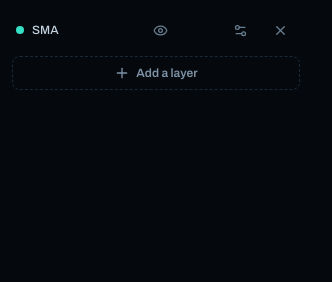
typing a period › shows what the indicator will actually use once the reader leaves
The width and height of the screenshot is (332, 282).
Click the button named " settings". click: (240, 30)
box: [224, 14, 256, 46]
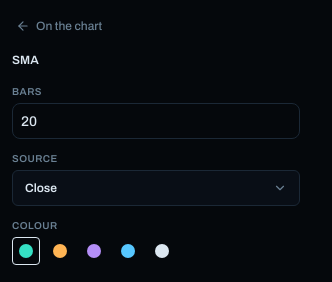
Replace the text in the number field with "1". click: (156, 121)
box: [12, 103, 300, 139]
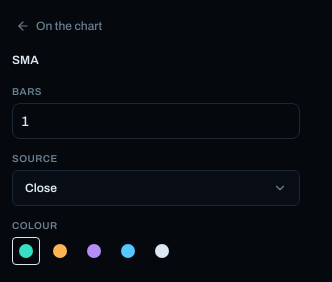
Leave the number field, box [12, 103, 300, 139]
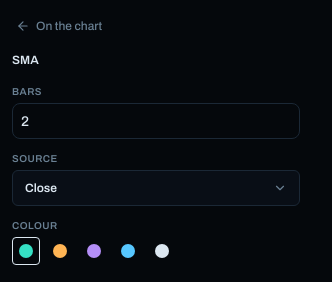
Expected: the number field holds "2", [12, 103, 300, 139]
